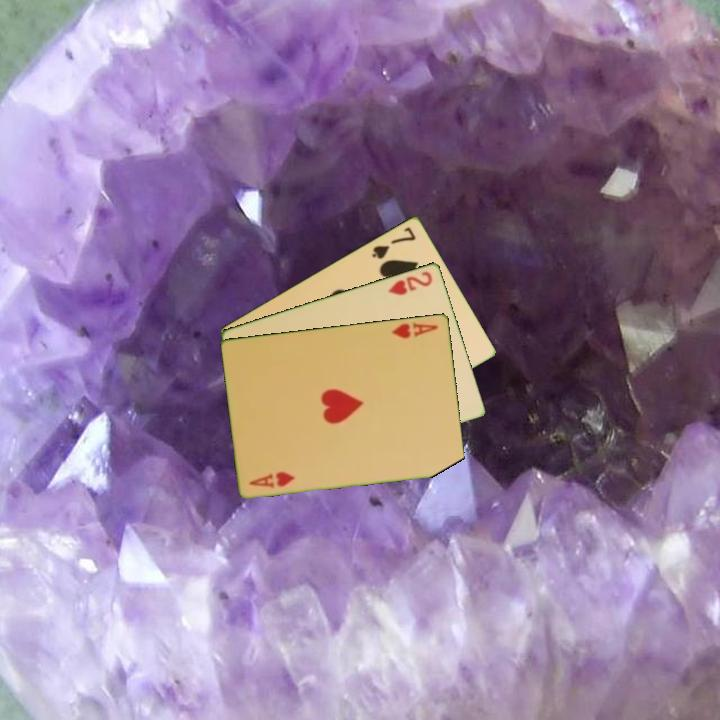2h: (385, 267, 435, 298)
7s: (368, 223, 419, 262)
Ah: (388, 318, 441, 341), (246, 468, 297, 491)
